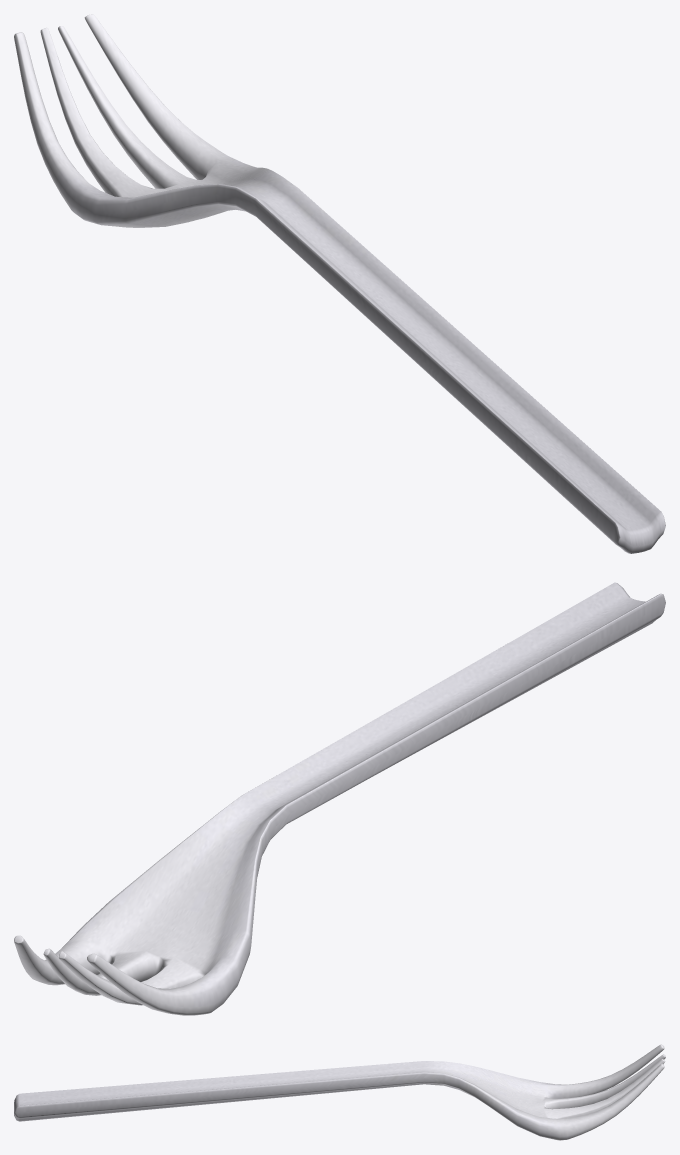
The picture shows the model from 3 angles, top to bottom: view 1: azimuth 30°, elevation 25°; view 2: azimuth 150°, elevation 25°; view 3: azimuth 270°, elevation 25°; orthographic projection. The views are drawn at different scales.
Visible parts, largest first — view 1: PlasticFork__HighRes1; view 2: PlasticFork__HighRes1; view 3: PlasticFork__HighRes1.
Part boxes in pixels (x1=…): PlasticFork__HighRes1: x1=14, y1=14, x2=665, y2=553; PlasticFork__HighRes1: x1=14, y1=582, x2=665, y2=1015; PlasticFork__HighRes1: x1=14, y1=1044, x2=665, y2=1140.
Size of the model in its own units: 1.48 by 1.03 by 9.38.
Materials: 1 (1 with a texture image).
